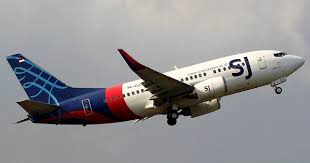maybay_dansu: (5, 44, 310, 126)
